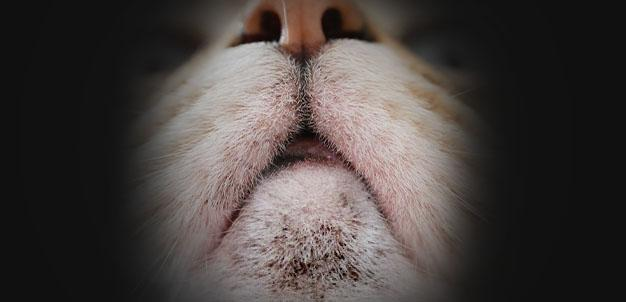acne: (268, 214, 360, 300)
